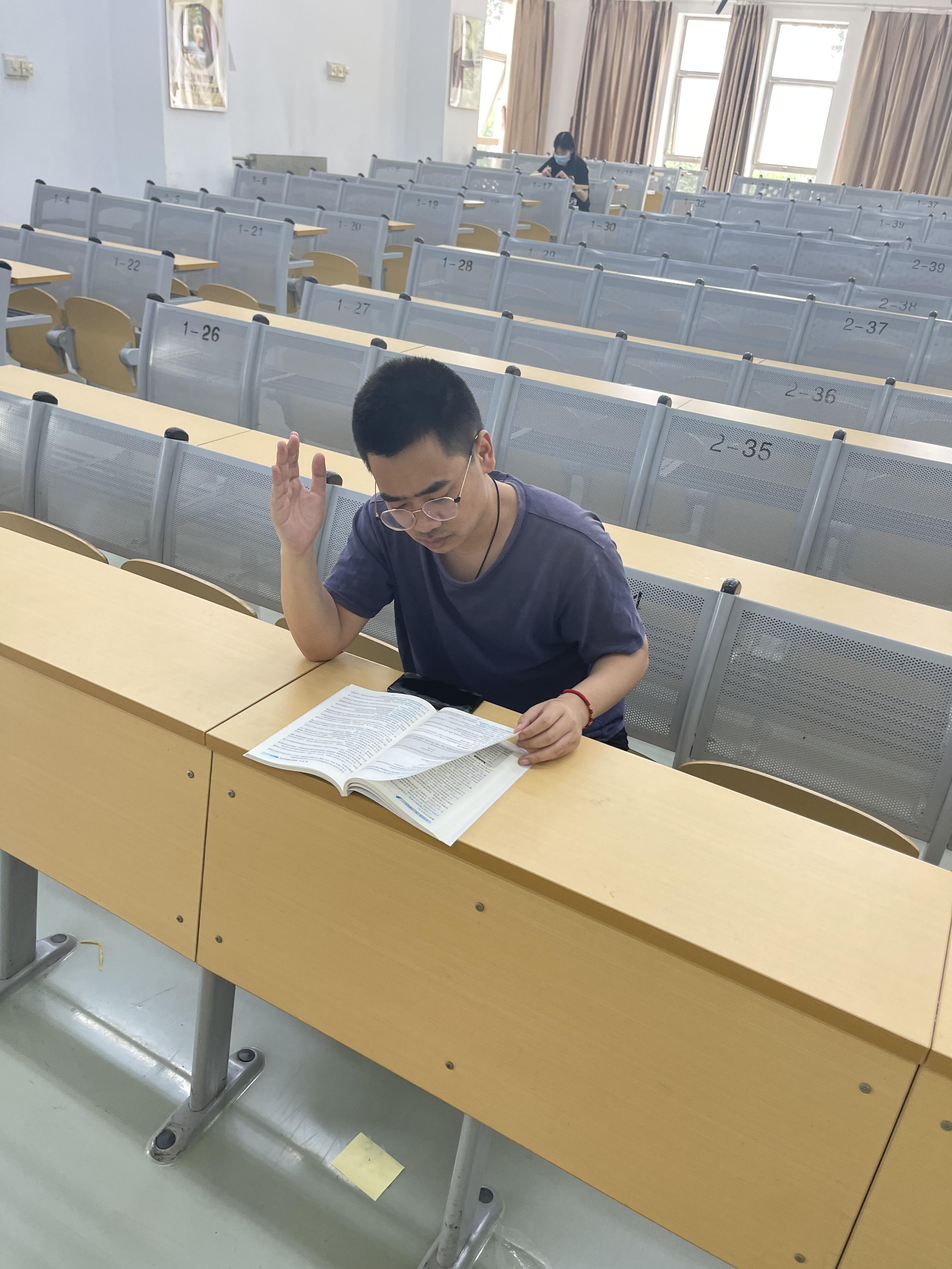study: (272, 357, 649, 822)
